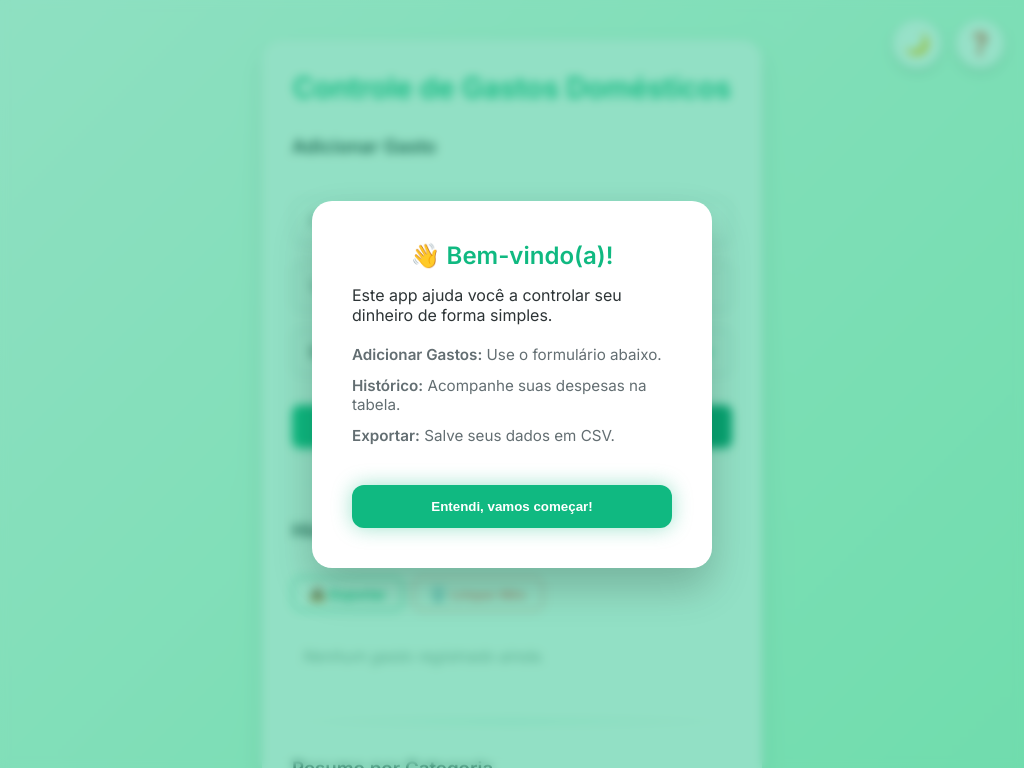
Scenario: E2E: Interface e Integrações de Sistema › Deve abrir e fechar o tutorial corretamente
The width and height of the screenshot is (1024, 768).
Click the button with test id "btn-fechar-tutorial" at {"x": 512, "y": 507}, box [352,485,672,528]
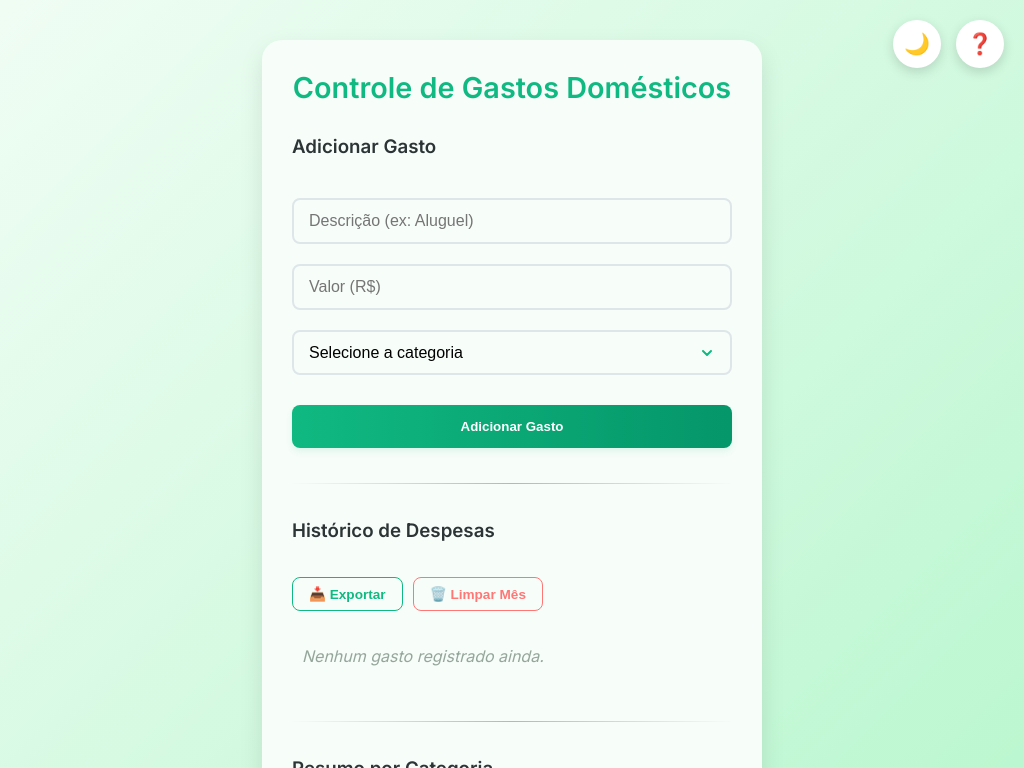
Click the button with test id "btn-tutorial" at {"x": 980, "y": 44}, box [956,20,1004,68]
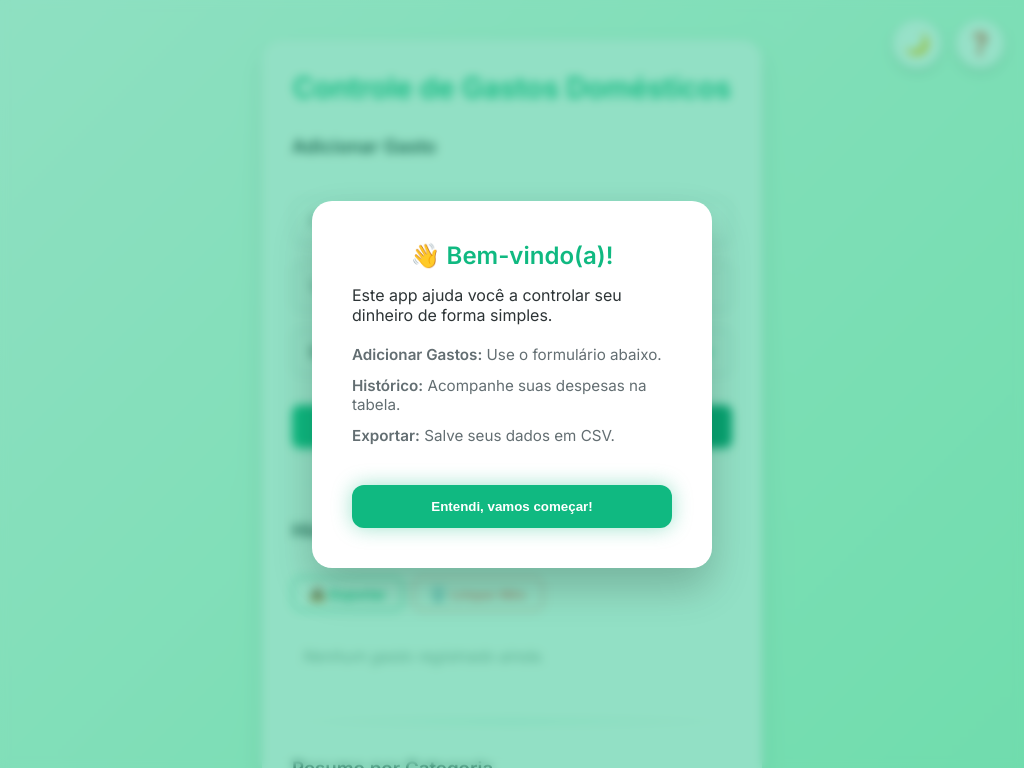
Check: the element with test id "tutorial-overlay" is shown
Click the button with test id "btn-fechar-tutorial" at {"x": 512, "y": 507}, box [352,485,672,528]
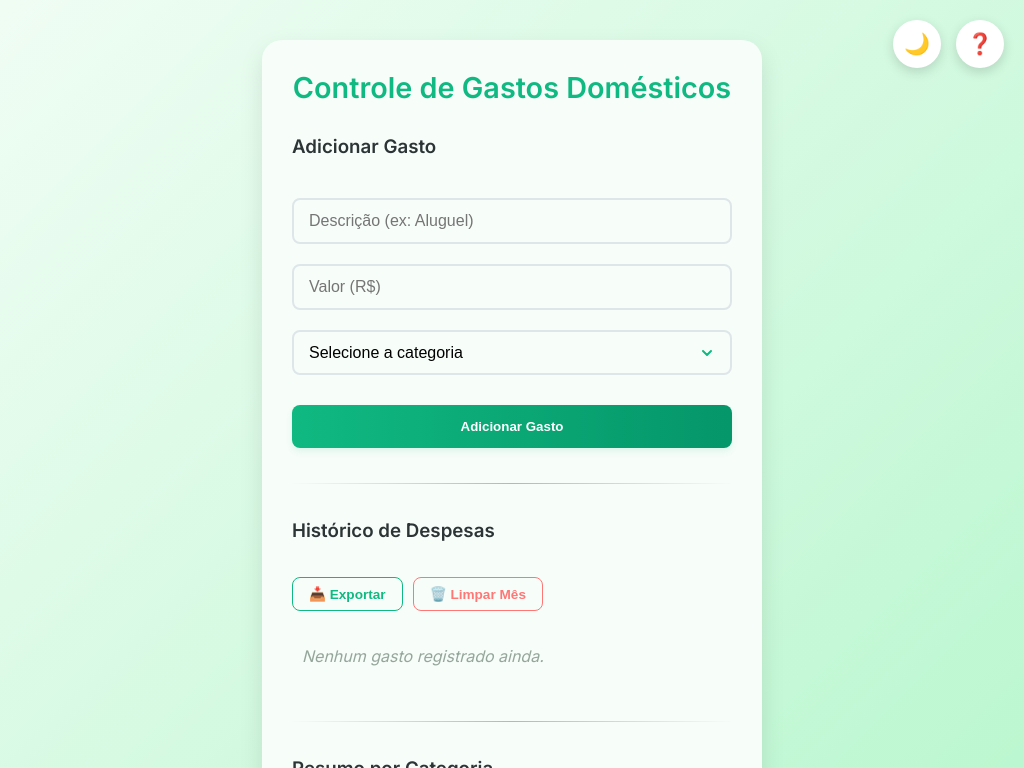
Check: the element with test id "tutorial-overlay" is gone
